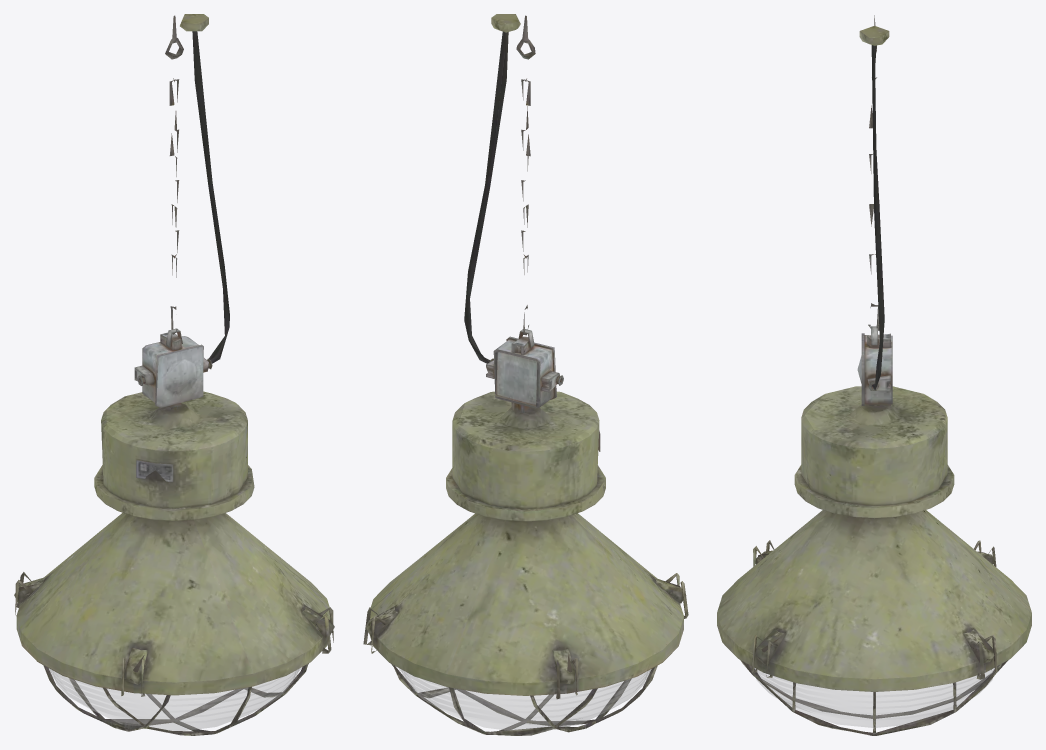
File: hanging_industrial_lamp.glb
The picture shows the model from 3 angles, left to right: view 1: azimuth 30°, elevation 25°; view 2: azimuth 150°, elevation 25°; view 3: azimuth 270°, elevation 25°; orthographic projection.
Parts seen in each view (by area): view 1: hanging_industrial_lamp; view 2: hanging_industrial_lamp; view 3: hanging_industrial_lamp.
Part boxes in pixels (x1,y1,x2,y2): hanging_industrial_lamp: [14, 14, 334, 735]; hanging_industrial_lamp: [363, 14, 688, 735]; hanging_industrial_lamp: [717, 15, 1031, 735].
Bounding box in the file's own units: 0.5497 × 1.36 × 0.5497.
2 materials, 1 textured.
